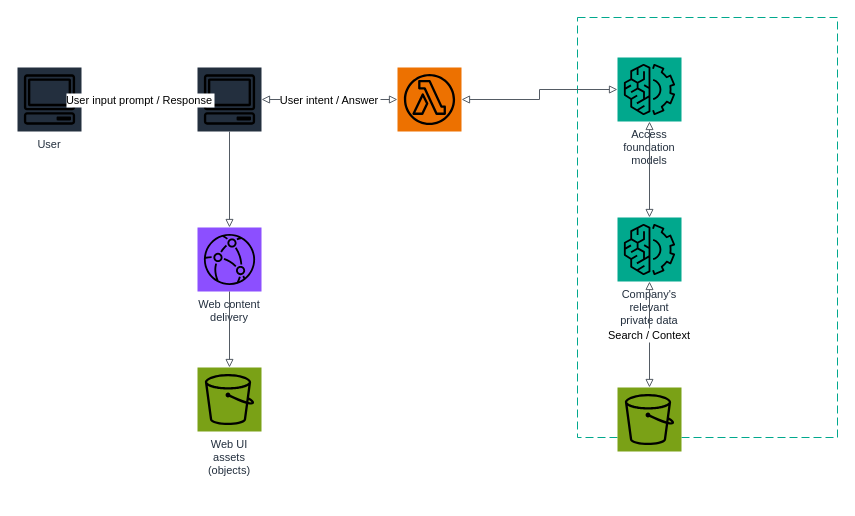
This 855x516 diagram has some shape labels left out. Each missing label, with the centre of its shape:
"AI Chatbot (QnAIntent)" belongs at (429,99).
"Document store (objects)" belongs at (649,419).
"GenAI Chat UI" belongs at (229,99).
